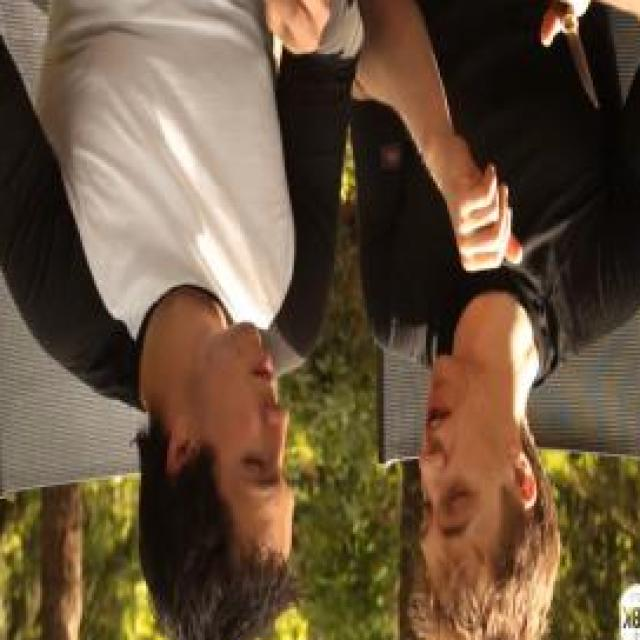knife: (529, 0, 612, 132)
